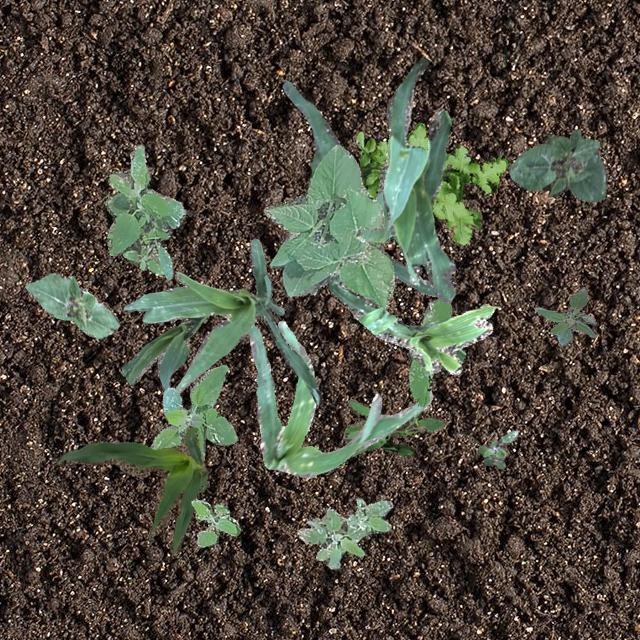crop: (121, 237, 322, 403), (282, 80, 434, 296), (248, 319, 432, 476), (262, 143, 393, 310), (56, 424, 210, 554), (382, 58, 454, 302), (328, 276, 494, 374), (508, 128, 606, 200), (120, 314, 207, 390), (24, 272, 118, 336)
weed: (356, 122, 506, 244), (104, 144, 184, 278), (148, 364, 236, 456), (296, 498, 392, 568), (408, 298, 464, 406), (342, 398, 443, 456), (308, 242, 382, 294), (534, 286, 596, 344), (190, 498, 240, 546), (478, 430, 516, 468)
